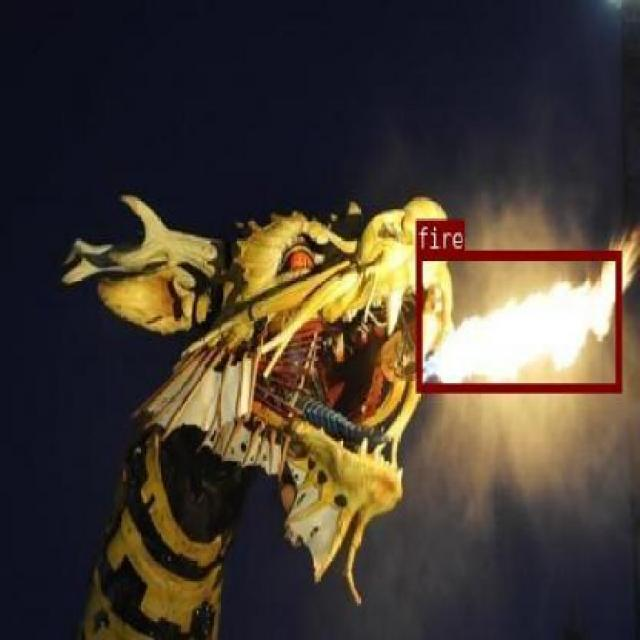Fire: (415, 249, 620, 391)
